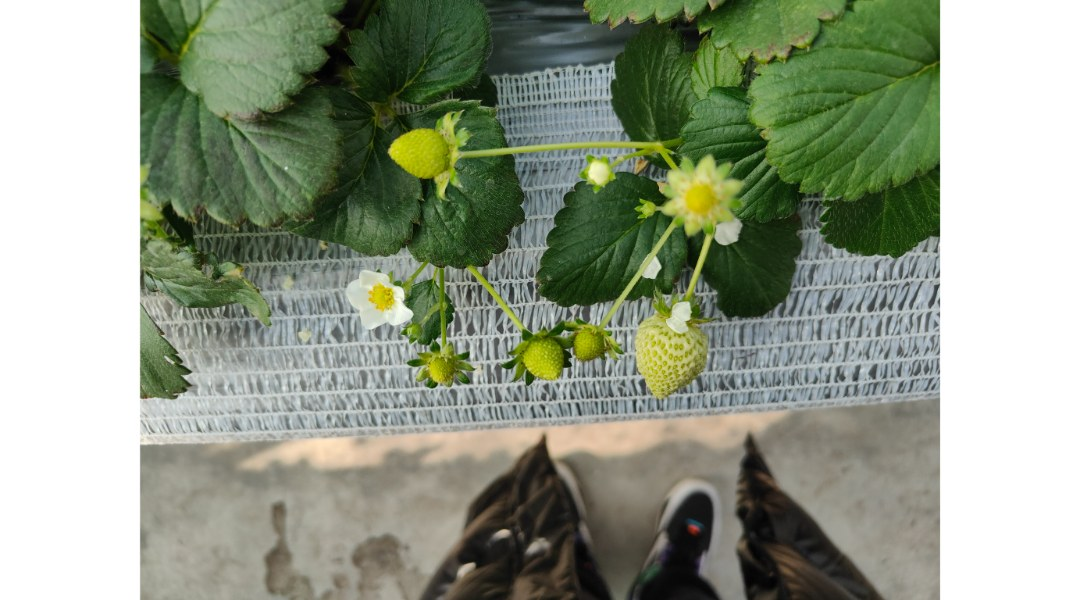berry: (629, 294, 719, 414), (377, 108, 471, 200), (661, 158, 740, 233), (508, 327, 573, 390), (563, 313, 626, 368), (410, 348, 471, 402), (575, 148, 620, 205)
flower: (342, 265, 414, 336)
strain: (598, 221, 670, 330), (470, 261, 529, 337), (452, 140, 656, 159), (684, 228, 713, 318)
